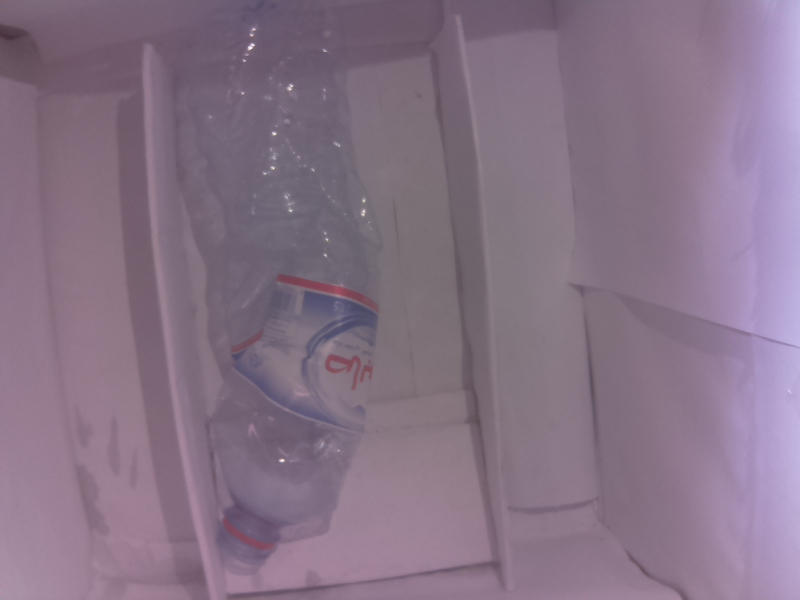botolplastik: (194, 5, 383, 565)
